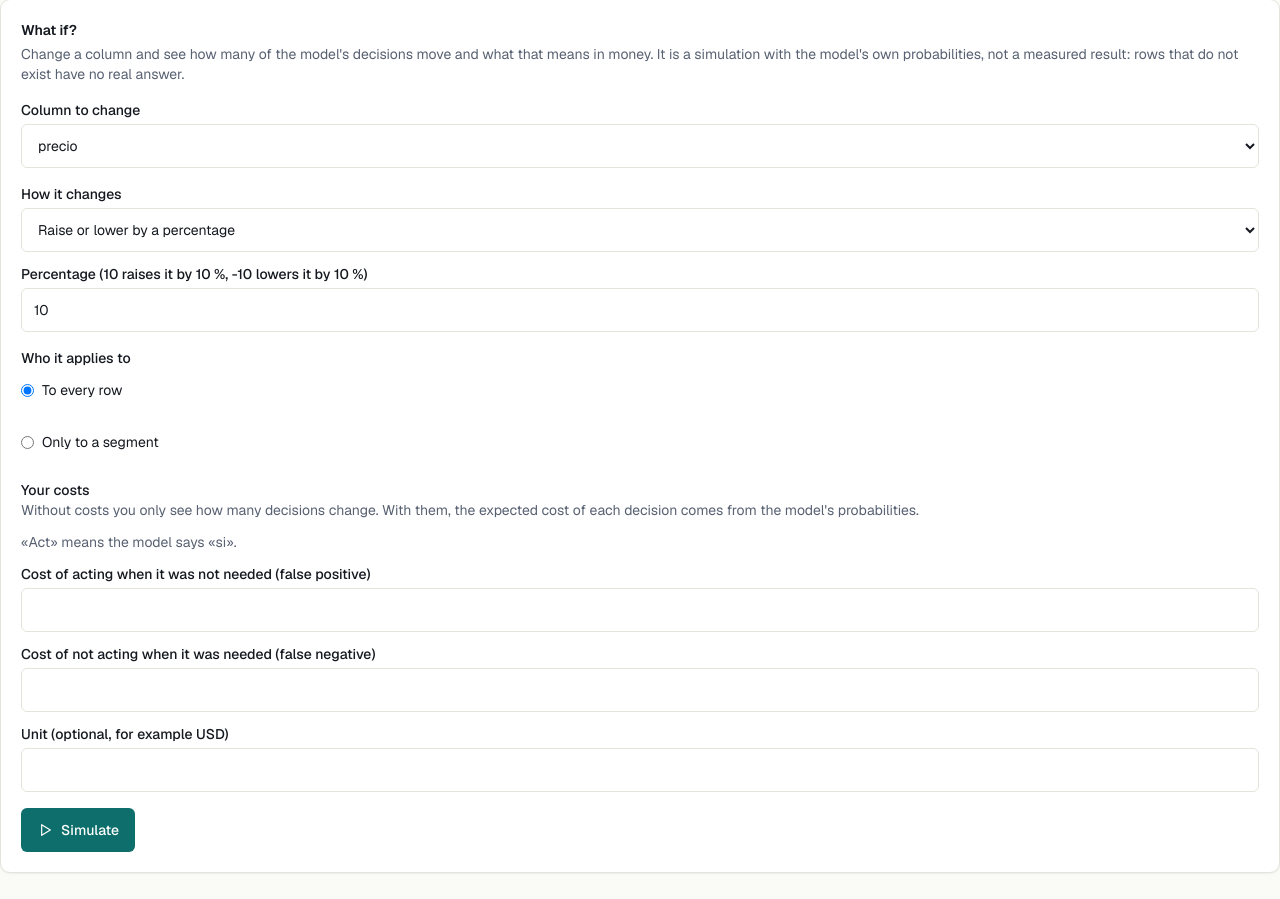
Test: el panel «¿Qué pasaría si?» › en inglés
The width and height of the screenshot is (1280, 899).
Expected: the heading "What if?" is shown, [21,21,77,39]
Click the button "Simulate": (78,830) [21,808,135,852]
(page scrolled)
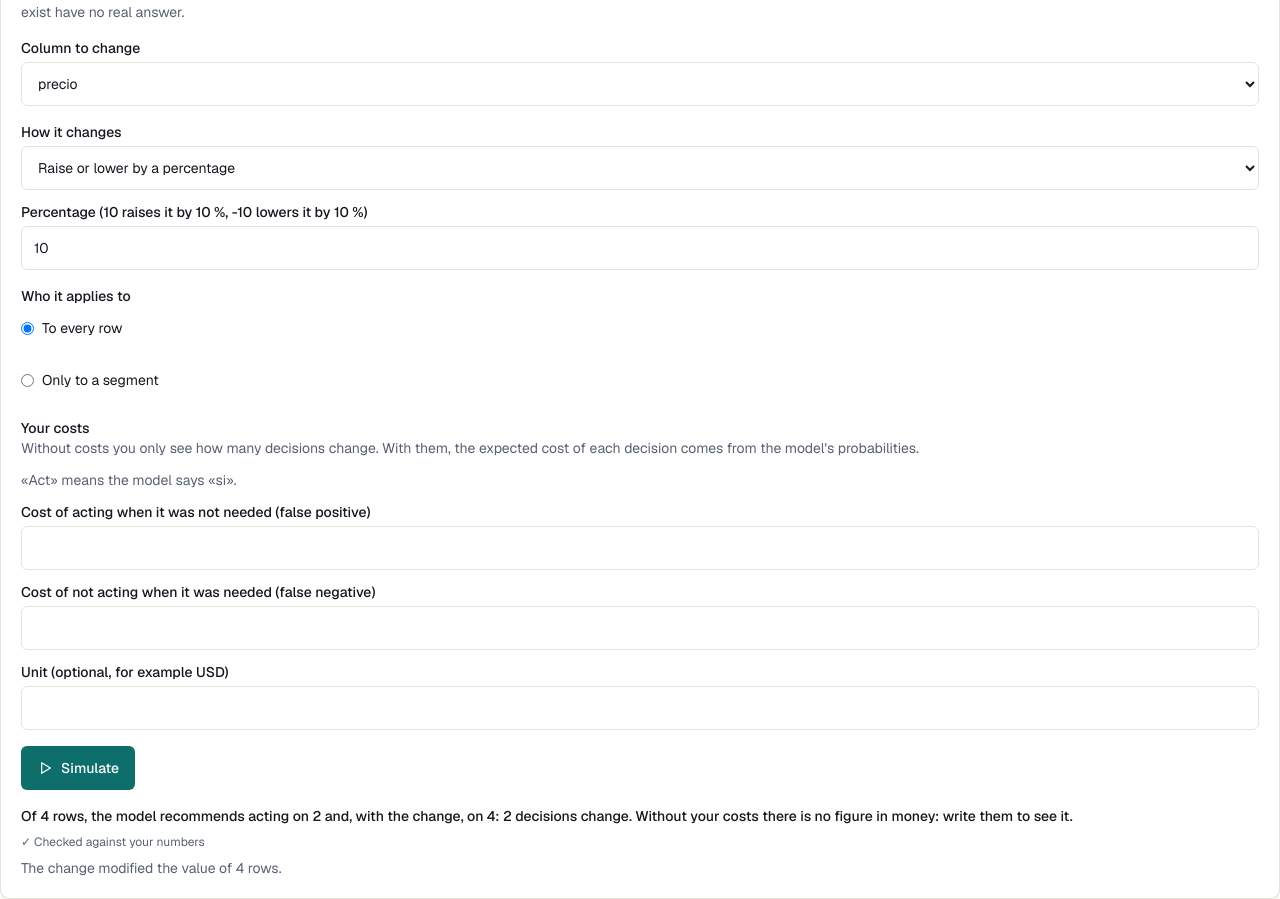
Now the text with test id "simulador-resumen" shows "Of 4 rows", box [21,807,1073,825]
Now the element with test id "simulador-verificada" shows "Checked against your numbers", box [34,834,205,850]
